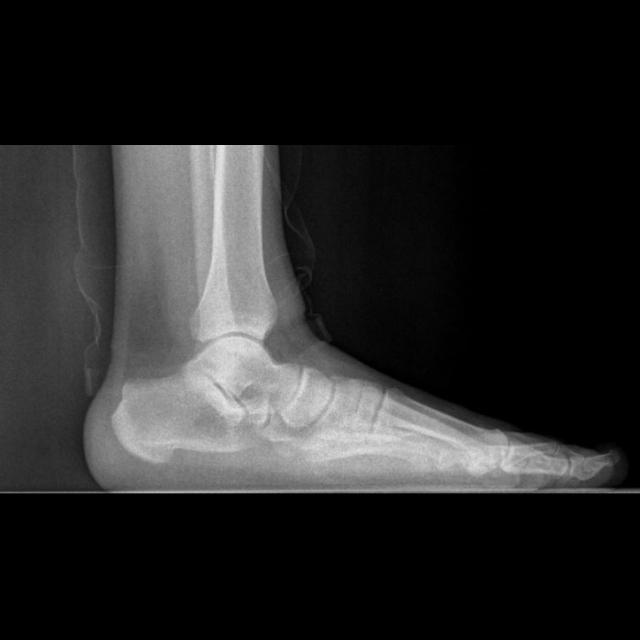a: (109, 365, 261, 463)
b: (280, 364, 334, 429)
c: (359, 385, 507, 466)
